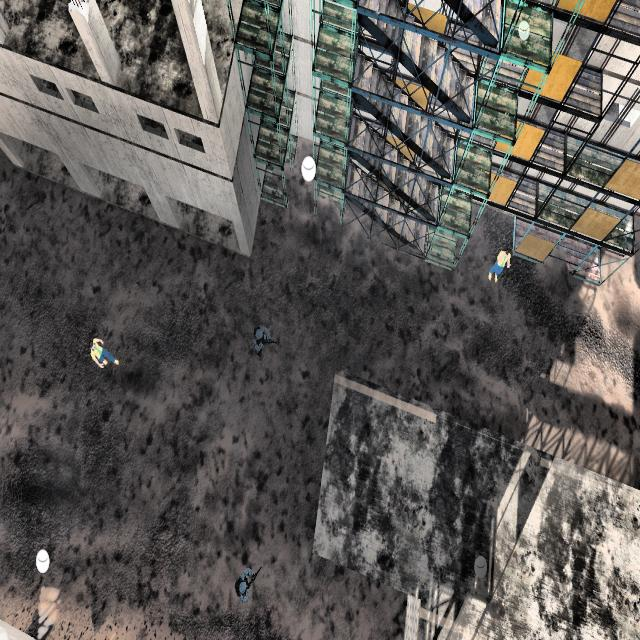bad: (228, 559, 259, 612), (249, 314, 276, 366)
good: (85, 331, 124, 390), (484, 239, 512, 288)
